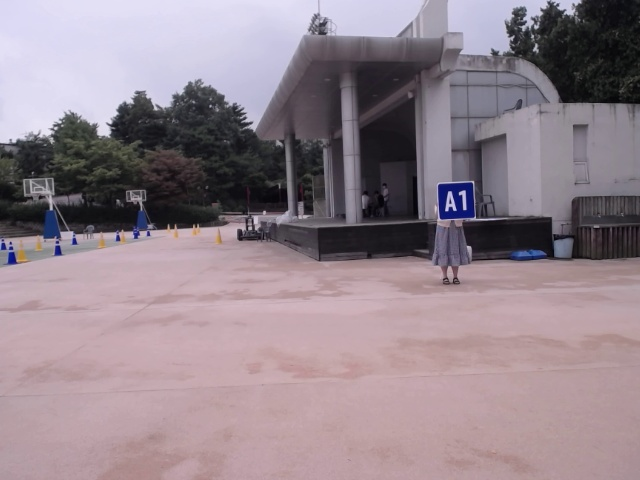delivery_a1: (438, 181, 477, 220)
